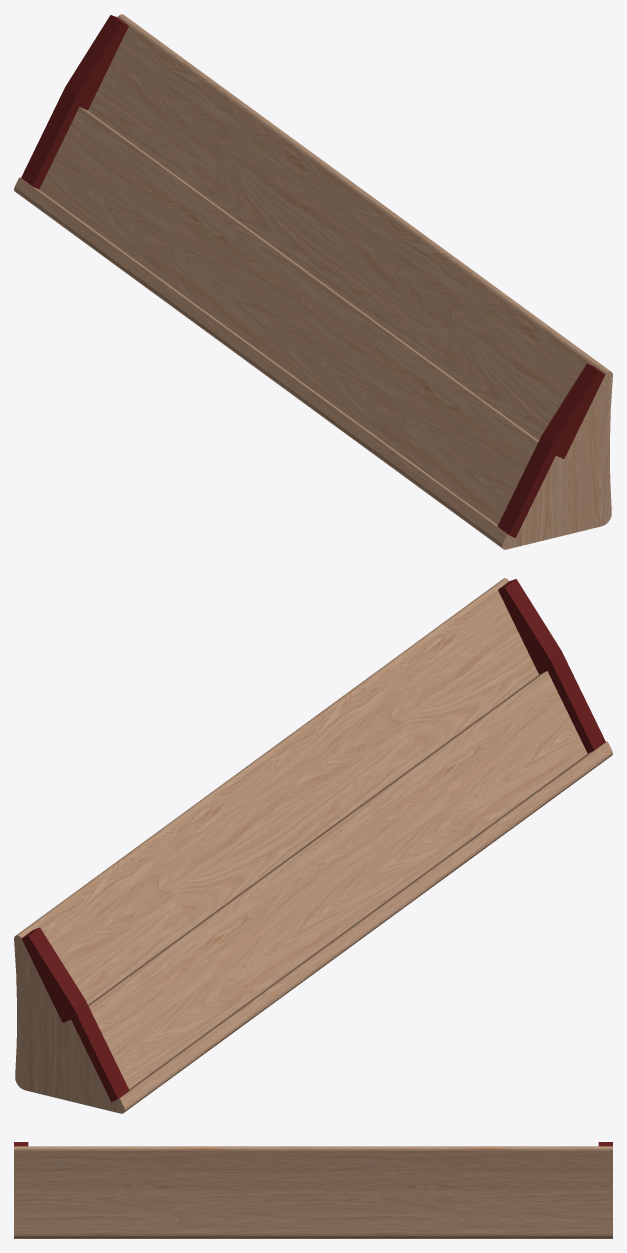
Rendered from ISTAKA.FBX.
3 renders of one model, top to bottom at view 1: azimuth 30°, elevation 25°; view 2: azimuth 150°, elevation 25°; view 3: azimuth 270°, elevation 25°, orthographic. The views are drawn at different scales.
Visible parts, largest first — view 1: Layer:ISTAKA_GOVDE; view 2: Layer:ISTAKA_GOVDE; view 3: Layer:ISTAKA_GOVDE.
Part boxes in pixels (box(x1,y1,x2,y2)): Layer:ISTAKA_GOVDE: box(14, 14, 612, 549); Layer:ISTAKA_GOVDE: box(14, 578, 612, 1113); Layer:ISTAKA_GOVDE: box(14, 1142, 612, 1238).
Size of the model in its own units: 5.52 by 7.37 by 42.
Materials: 2 (1 with a texture image).
